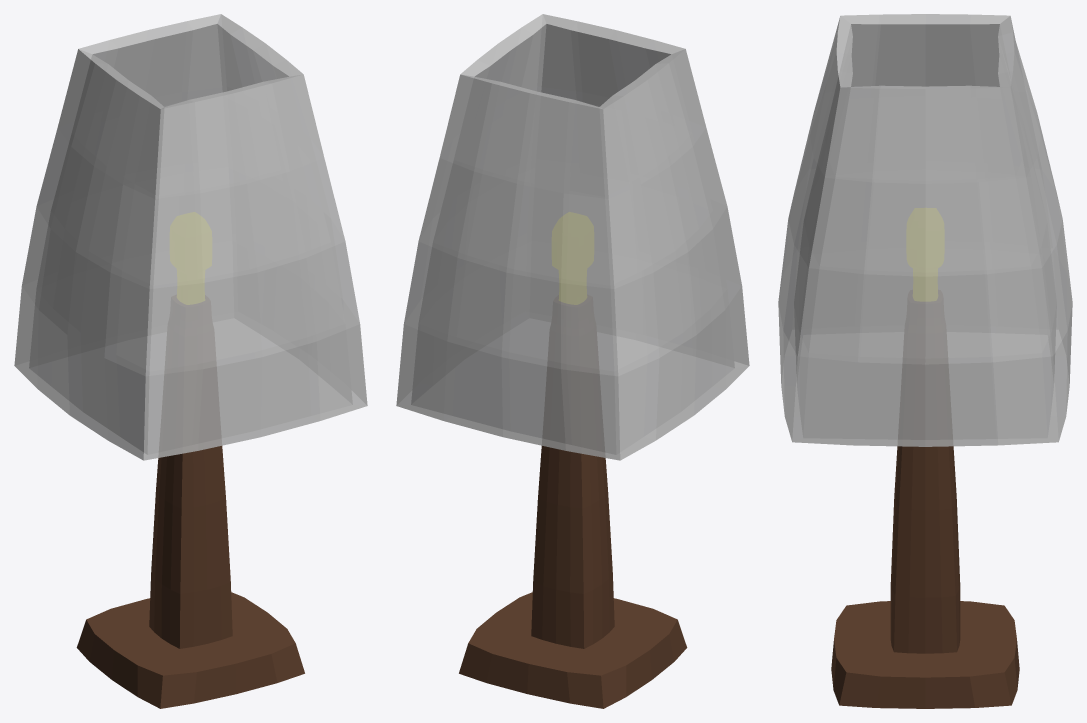
Rendered from lamp.fbx.
3 views of the same model, side by side, from view 1: azimuth 30°, elevation 25°; view 2: azimuth 150°, elevation 25°; view 3: azimuth 270°, elevation 25° (orthographic). The views are drawn at different scales.
Visible parts, largest first — view 1: Cube; view 2: Cube; view 3: Cube.
Part boxes in pixels (<box>): Cube: <box>14,14,367,708</box>; Cube: <box>396,14,749,708</box>; Cube: <box>778,14,1072,708</box>.
Bounding box in the file's own units: 128 × 297 × 128.
